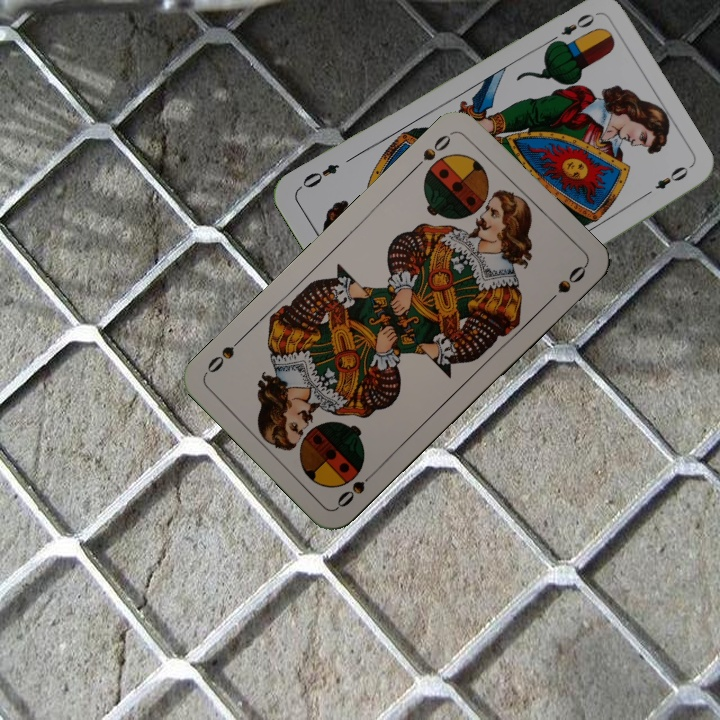EO: (544, 9, 598, 48)
SO: (332, 465, 381, 510), (409, 128, 457, 173)
